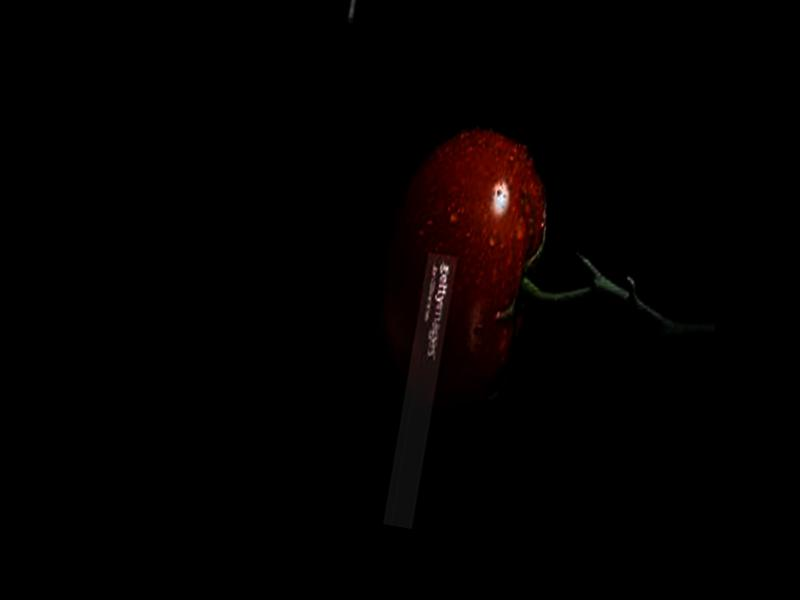Tomato: (367, 118, 556, 411)
